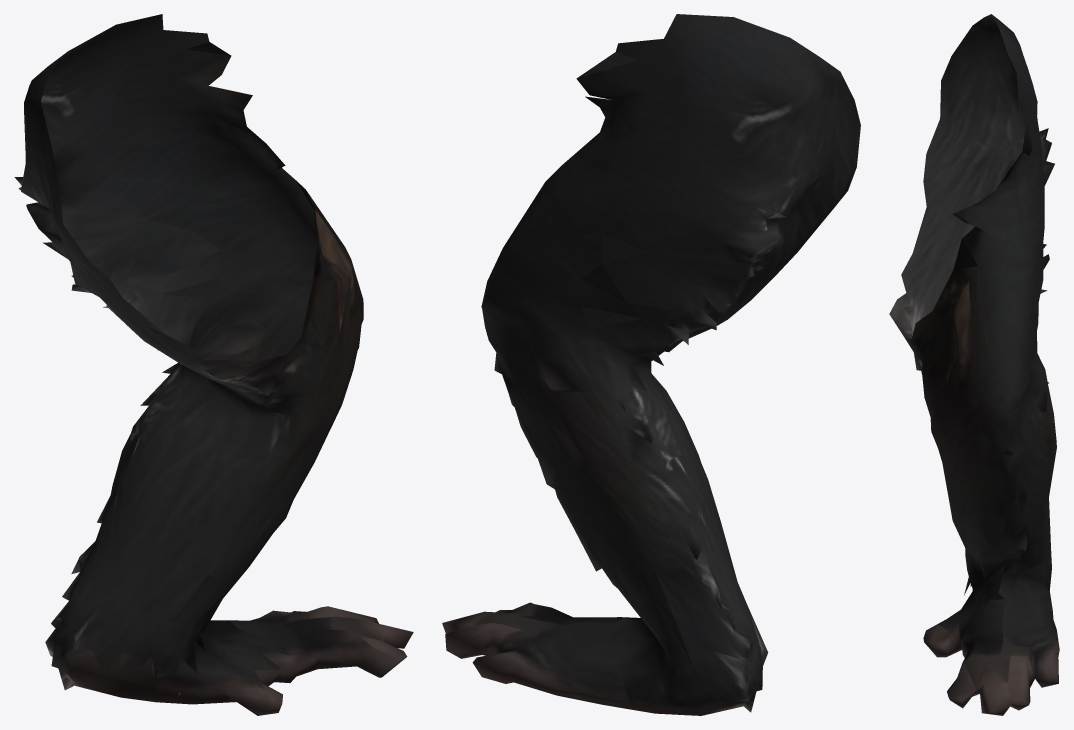
File: pataTrasIzqMono.obj
3 views of the same model, side by side, from view 1: azimuth 30°, elevation 25°; view 2: azimuth 150°, elevation 25°; view 3: azimuth 270°, elevation 25° (orthographic). The views are drawn at different scales.
Parts seen in each view (by area): view 1: pataTrasIzqMono; view 2: pataTrasIzqMono; view 3: pataTrasIzqMono.
Part boxes in pixels (x1=…): pataTrasIzqMono: x1=14, y1=14, x2=413, y2=715; pataTrasIzqMono: x1=442, y1=14, x2=860, y2=715; pataTrasIzqMono: x1=889, y1=14, x2=1059, y2=715.
Size of the model in its own units: 0.2975 by 0.5118 by 0.1357.
Materials: 1 (1 with a texture image).
